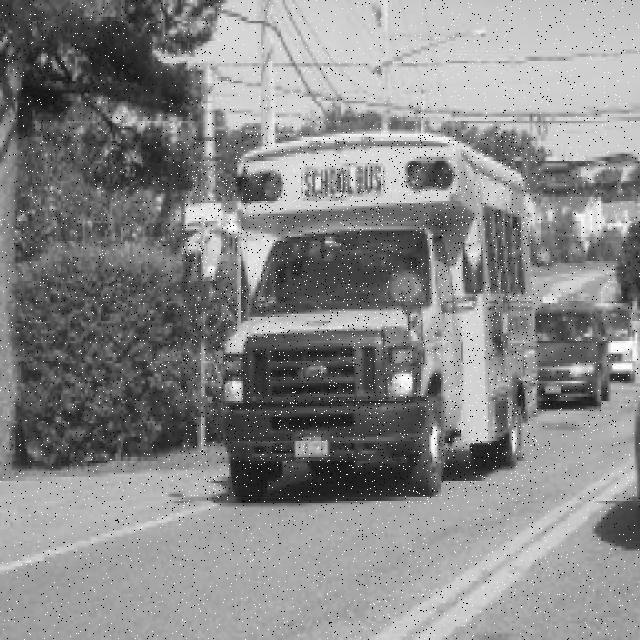Bus- Small: (182, 133, 539, 504)
